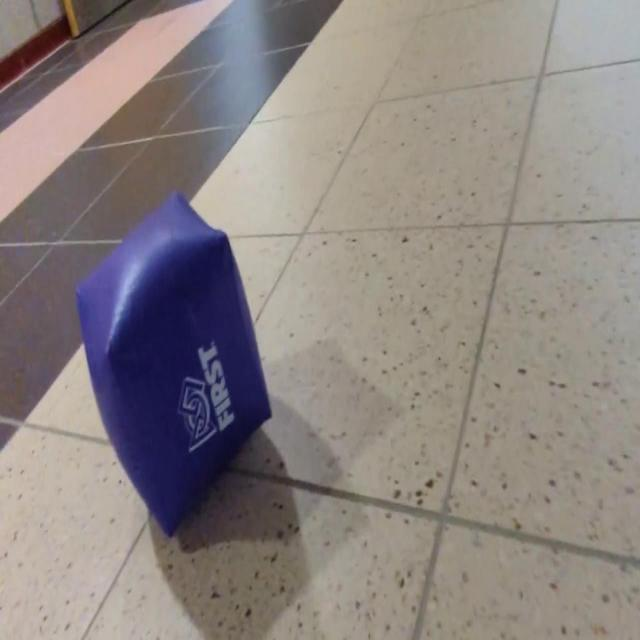frc_cube: (78, 186, 272, 538)
